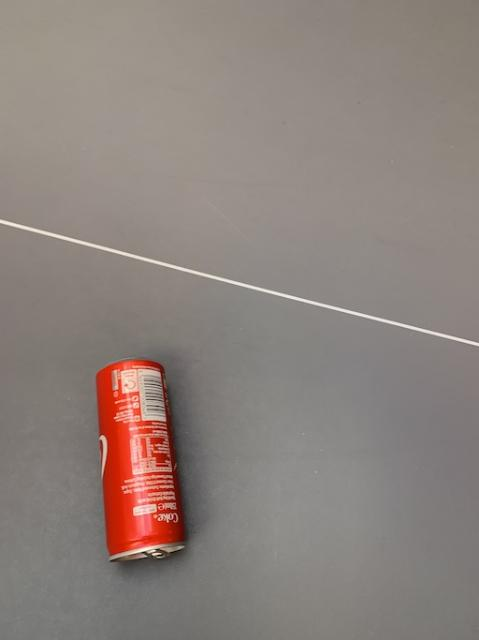metal: (96, 358, 183, 559)
